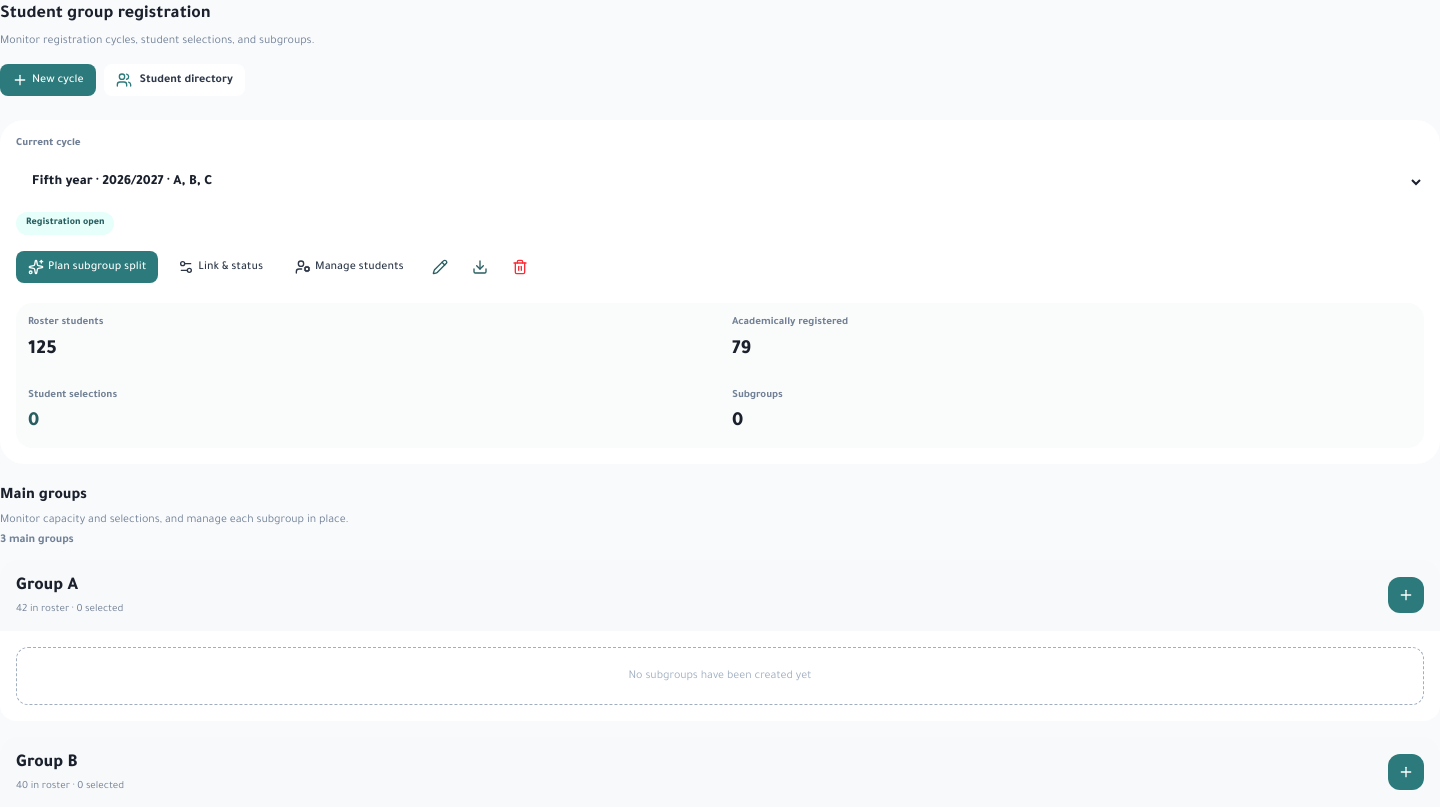
Test: StudentGroupsPage workspace › keeps group monitoring primary and opens split planning in a dialog
This screenshot has width=1440, height=810.
Expected: the dropdown labelled "Current cycle" shows "Fifth year · 2026/2027 · A, B, C", [16,160,1424,204]
Expected: the heading "Main groups" is shown, [0,488,87,504]
Click the button "Plan subgroup split". click: (87, 267)
box: [16,251,158,283]
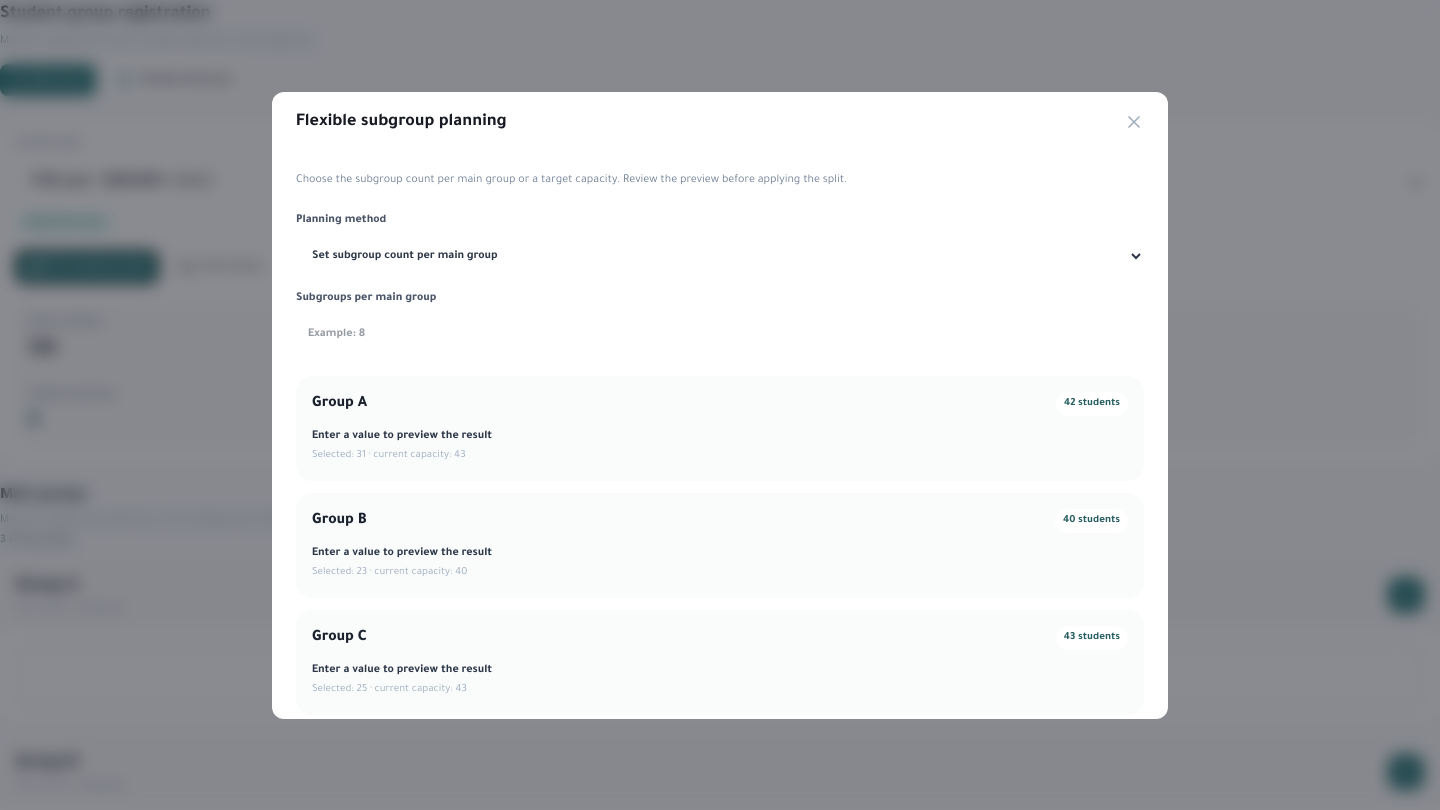
Expected: the dialog is shown, [272,92,1168,718]
Expected: the heading "Flexible subgroup planning" is shown, [296,108,507,136]
